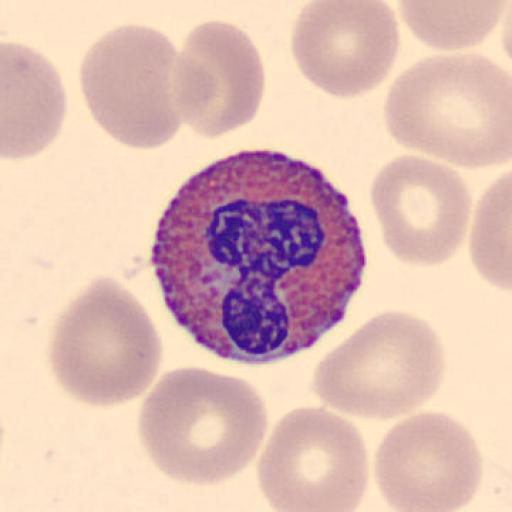RBC: (45, 273, 165, 410), (137, 364, 270, 487), (312, 308, 446, 422), (384, 51, 512, 169), (77, 21, 182, 154), (256, 405, 371, 512), (369, 152, 473, 270), (170, 18, 267, 140), (372, 410, 484, 511), (289, 1, 401, 99), (2, 40, 68, 162), (396, 0, 509, 51), (469, 167, 512, 294), (499, 0, 512, 79)
WBC: (147, 154, 369, 365)
